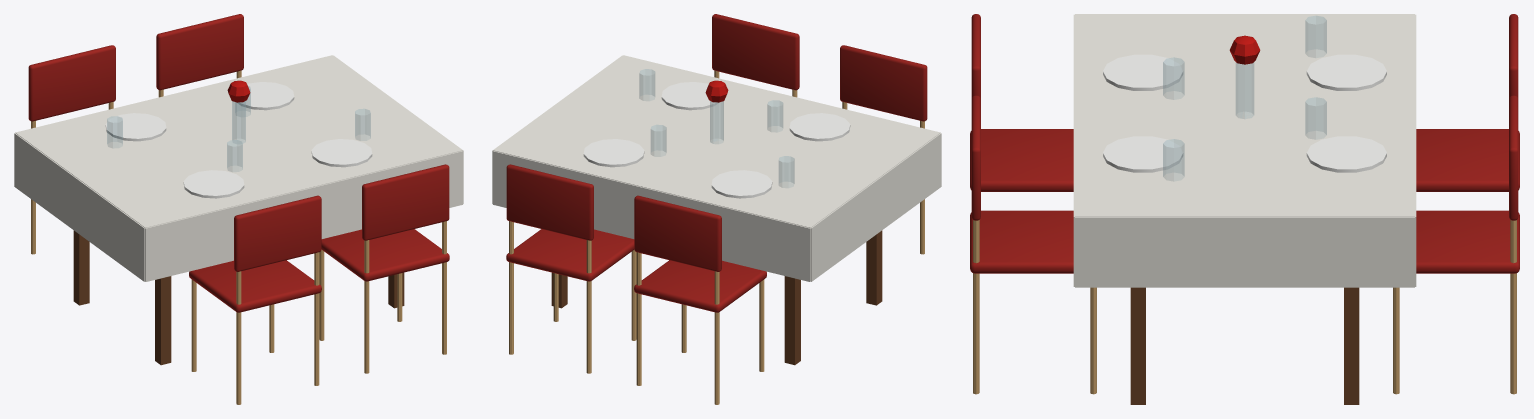
The model's file is hospitality.restaurant.laid_table_4.glb.
3 views of the same model, side by side, from view 1: azimuth 30°, elevation 25°; view 2: azimuth 150°, elevation 25°; view 3: azimuth 270°, elevation 25° (orthographic). The views are drawn at different scales.
Parts seen in each view (by area): view 1: table__fabric_white, chairs__fabric_red, setting__ceramic, chairs__glulam, table__hardwood, setting__glass, setting__plastic_red; view 2: table__fabric_white, chairs__fabric_red, setting__ceramic, chairs__glulam, table__hardwood, setting__glass, setting__plastic_red; view 3: table__fabric_white, chairs__fabric_red, setting__ceramic, setting__glass, chairs__glulam, table__hardwood, setting__plastic_red.
Boxes of the visible parts, bbox=[...] form: table__fabric_white: bbox=[14, 55, 463, 281]; chairs__fabric_red: bbox=[28, 14, 449, 312]; setting__ceramic: bbox=[105, 82, 372, 198]; chairs__glulam: bbox=[31, 70, 446, 404]; table__hardwood: bbox=[73, 230, 404, 365]; setting__glass: bbox=[107, 86, 370, 171]; setting__plastic_red: bbox=[227, 80, 250, 102]; table__fabric_white: bbox=[492, 55, 941, 281]; chairs__fabric_red: bbox=[506, 14, 927, 312]; setting__ceramic: bbox=[583, 82, 850, 198]; chairs__glulam: bbox=[509, 70, 924, 404]; table__hardwood: bbox=[551, 230, 882, 365]; setting__glass: bbox=[639, 69, 794, 187]; setting__plastic_red: bbox=[705, 80, 728, 102]; table__fabric_white: bbox=[1073, 14, 1416, 287]; chairs__fabric_red: bbox=[970, 14, 1519, 273]; setting__ceramic: bbox=[1103, 54, 1386, 172]; setting__glass: bbox=[1163, 16, 1326, 181]; chairs__glulam: bbox=[973, 220, 1516, 394]; table__hardwood: bbox=[1130, 287, 1359, 404]; setting__plastic_red: bbox=[1229, 35, 1260, 64].
Bounding box in the file's own units: 1.56 × 1.04 × 1.78.
